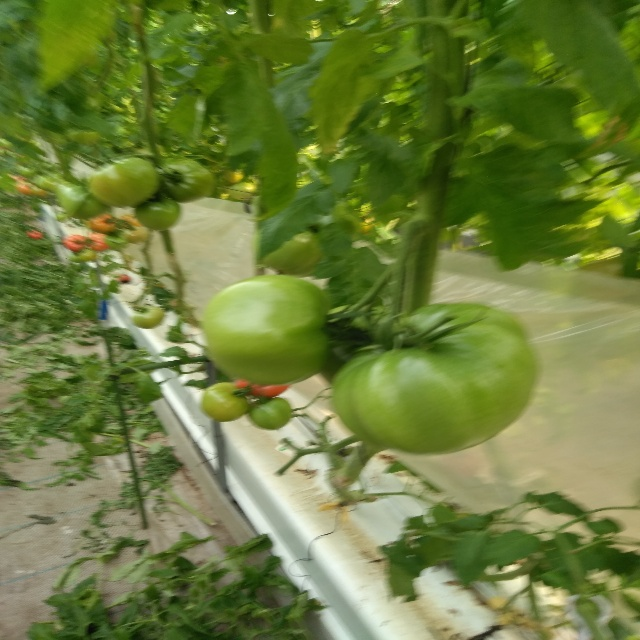b_fully_ripened: (236, 379, 292, 399)
b_green: (331, 303, 538, 456), (204, 275, 332, 386), (254, 224, 332, 278), (92, 157, 159, 208), (159, 159, 213, 204), (201, 383, 248, 422), (136, 194, 181, 231), (247, 397, 293, 431), (132, 307, 164, 329)
